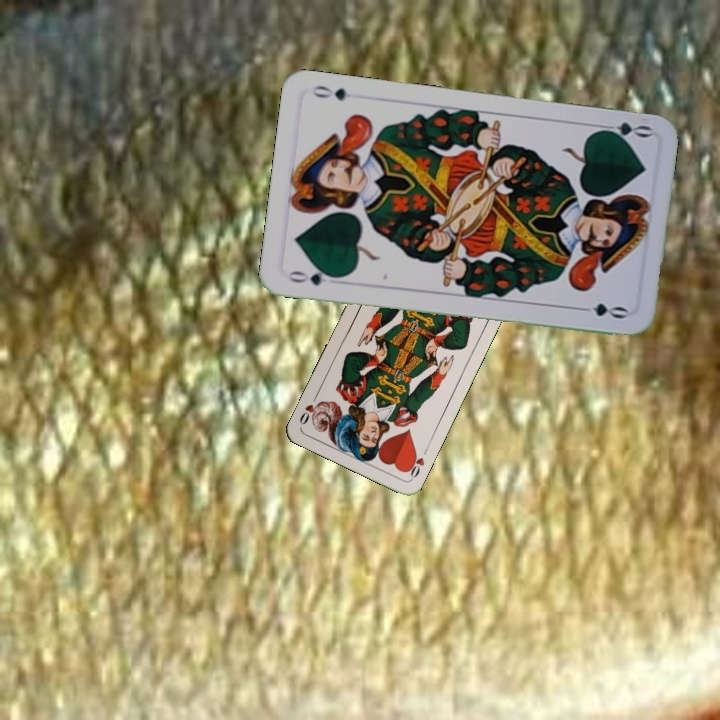GO: (593, 118, 653, 144), (284, 265, 343, 289)
HO: (402, 444, 431, 482)
